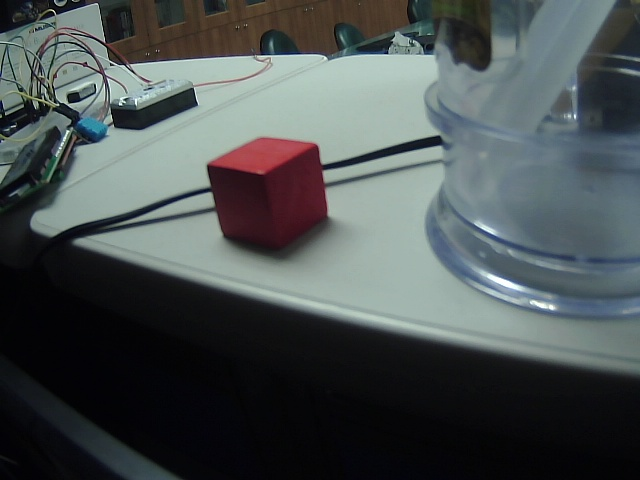redbox: (204, 134, 340, 254)
